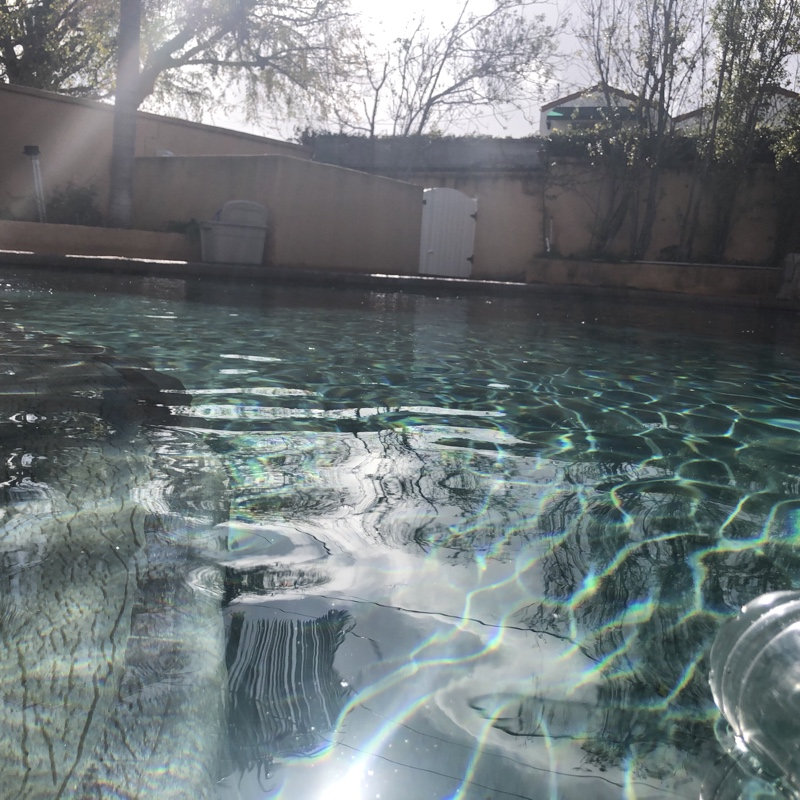Plastic Bottle: (704, 586, 800, 800)
